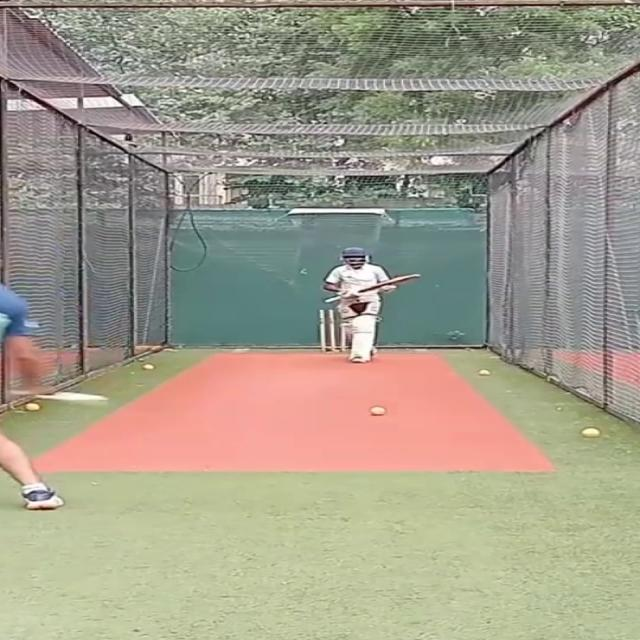ball: (576, 426, 604, 440), (366, 404, 386, 417), (22, 400, 40, 412), (474, 367, 493, 376), (139, 363, 155, 370)
stump: (315, 308, 346, 353)
